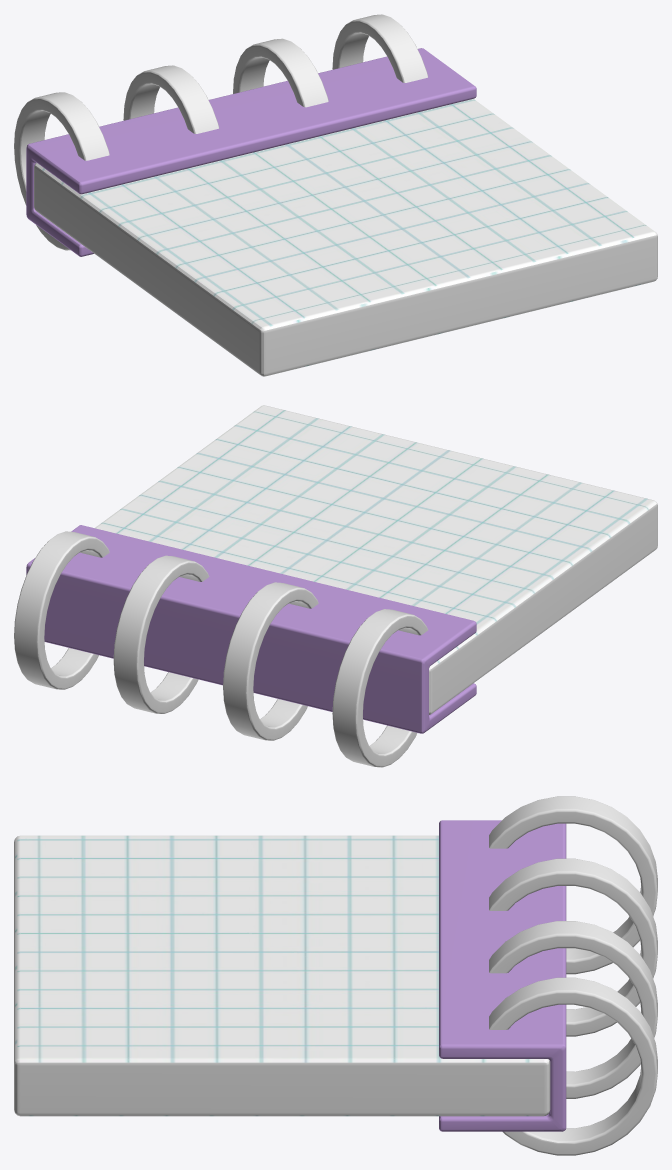
The model's file is calendar.glb.
The picture shows the model from 3 angles, top to bottom: view 1: azimuth 30°, elevation 25°; view 2: azimuth 150°, elevation 25°; view 3: azimuth 270°, elevation 25°; orthographic projection. The views are drawn at different scales.
Parts seen in each view (by area): view 1: notebook; view 2: notebook; view 3: notebook.
Part boxes in pixels (x1,y1,x2,y2): notebook: [14, 14, 657, 376]; notebook: [14, 405, 657, 767]; notebook: [14, 796, 657, 1155].
Size of the model in its own units: 10 by 3.4 by 12.01.
Materials: 1 (1 with a texture image).
